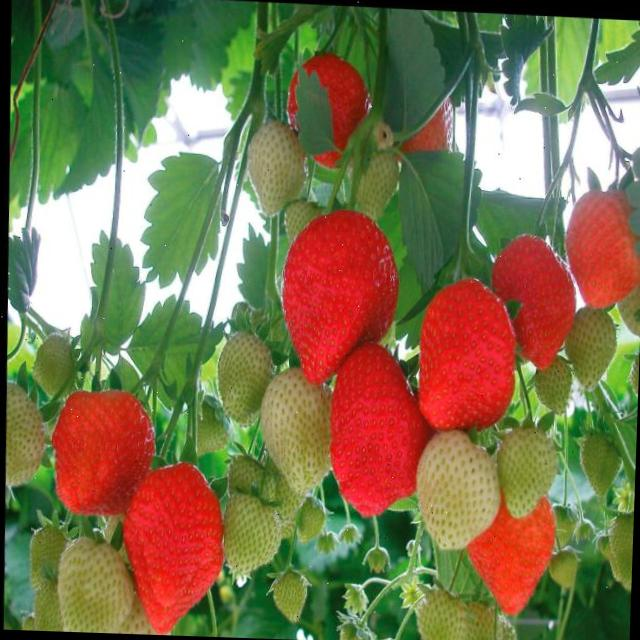ripe: (274, 204, 401, 386), (324, 331, 434, 522), (407, 271, 526, 440), (116, 456, 225, 636), (40, 377, 155, 523), (483, 210, 578, 368), (561, 184, 640, 313)
